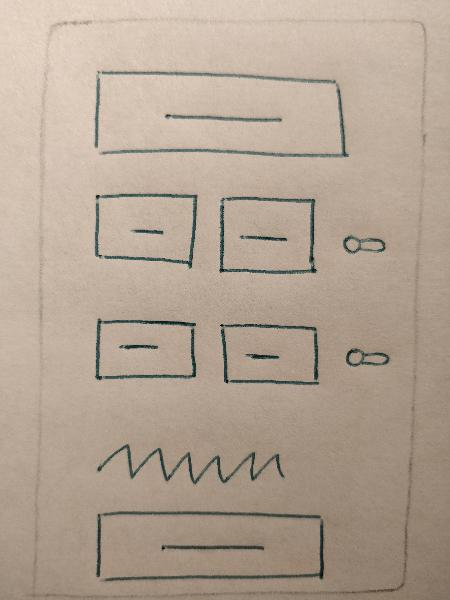button: (77, 62, 364, 167), (90, 499, 334, 587), (81, 183, 209, 276), (79, 305, 204, 391), (209, 311, 333, 396), (213, 191, 330, 279)
switch: (334, 223, 405, 264), (338, 338, 404, 378)
text: (86, 434, 298, 487)
